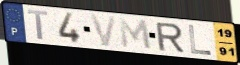4: (57, 12, 83, 45)
L: (187, 24, 213, 57)
M: (117, 17, 154, 52)
R: (155, 22, 186, 53)
T: (25, 8, 50, 41)
V: (89, 13, 119, 48)
